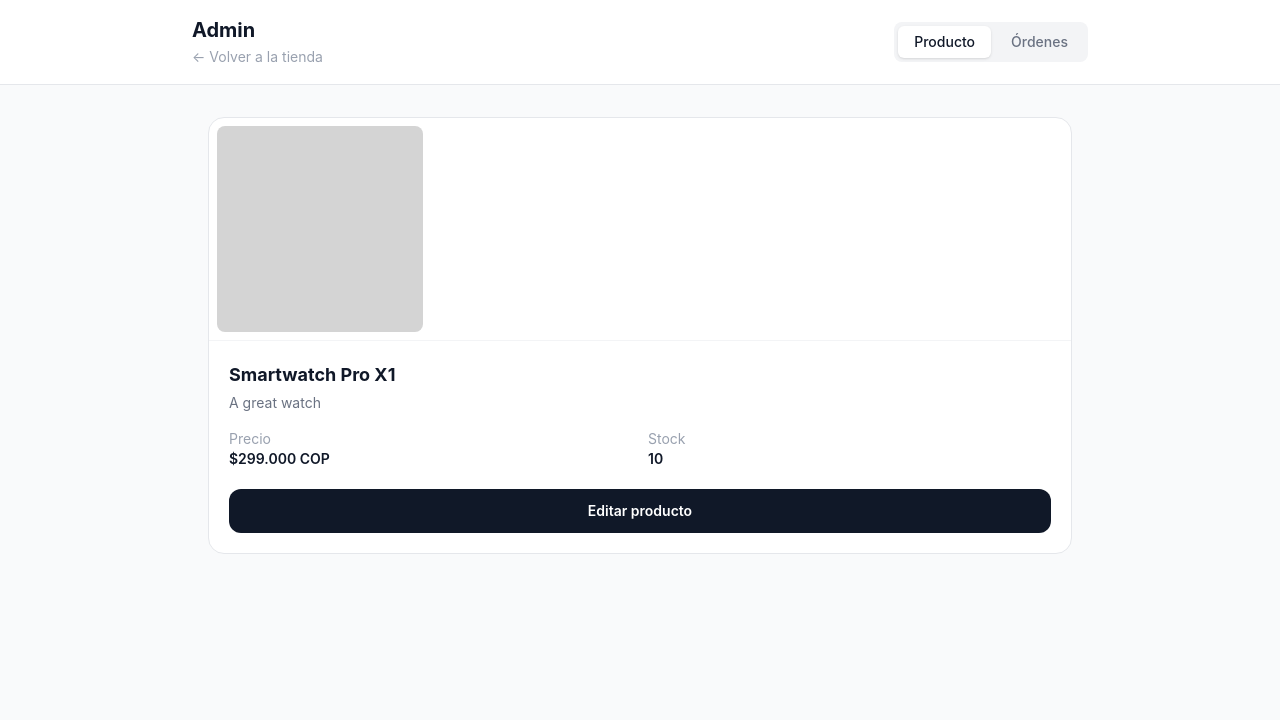
AdminPage › closes the edit modal when cancel is clicked
What coordinates should you click on to do the following:
click the button "Editar producto"
I would click on:
 (640, 510)
Its box is left=229, top=488, right=1051, bottom=532.
(page scrolled)
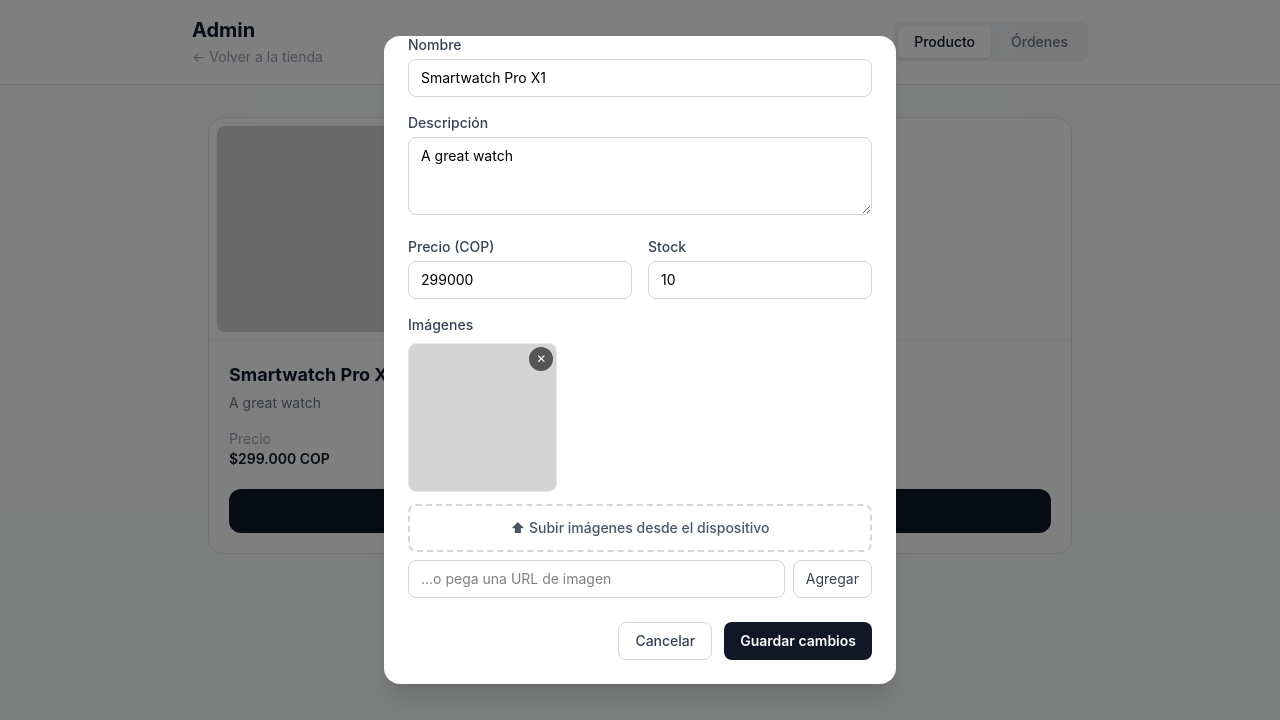
Check: the button "Guardar cambios" is shown, box left=724, top=622, right=872, bottom=660
What coordinates should you click on to do the following:
click the button "Cancelar"
I would click on:
 (665, 641)
Its box is left=618, top=622, right=712, bottom=660.
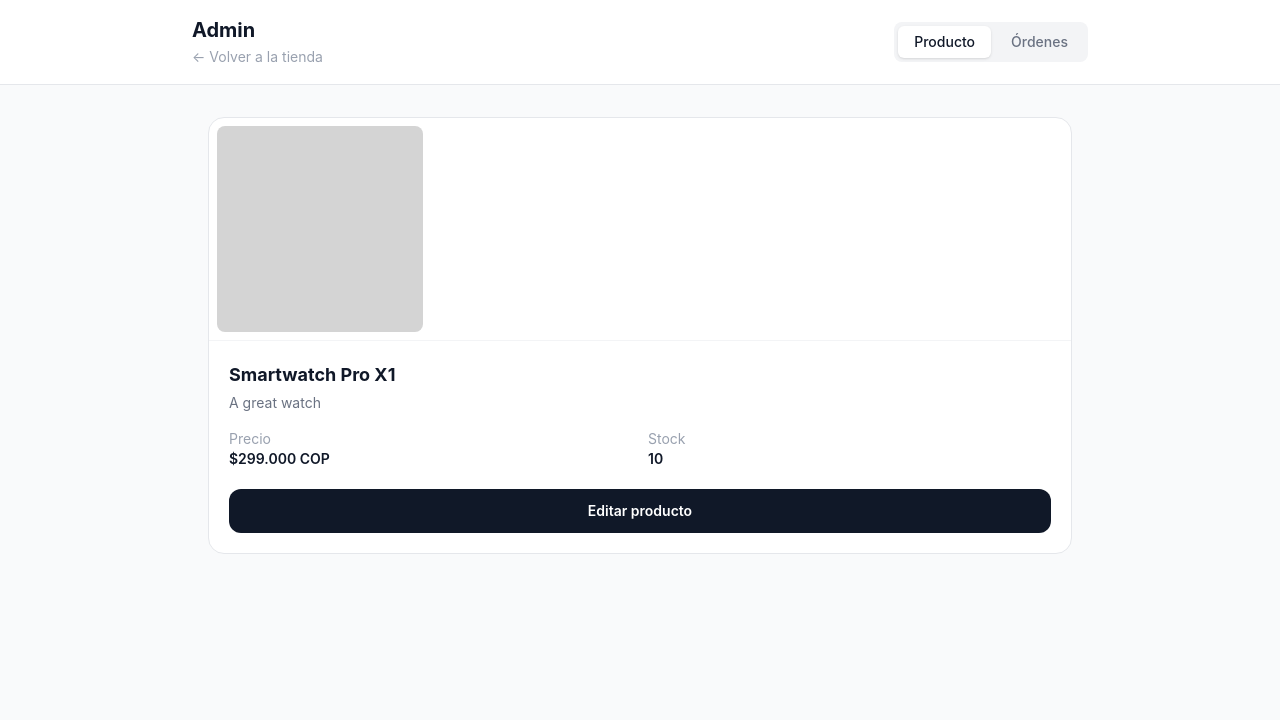
Check: the button "Guardar cambios" is gone
